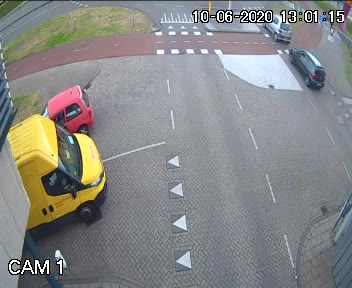car: (0, 123, 124, 226), (39, 82, 95, 131), (288, 47, 326, 94), (260, 12, 293, 45)
